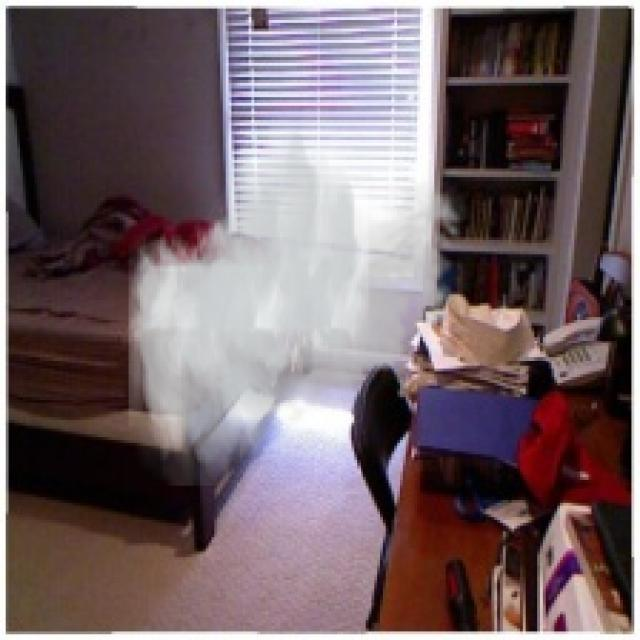Smoke: (128, 108, 472, 486)
